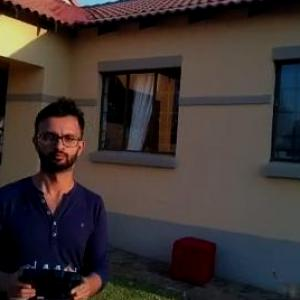follow: (0, 85, 122, 299)
null: (267, 266, 299, 299)
